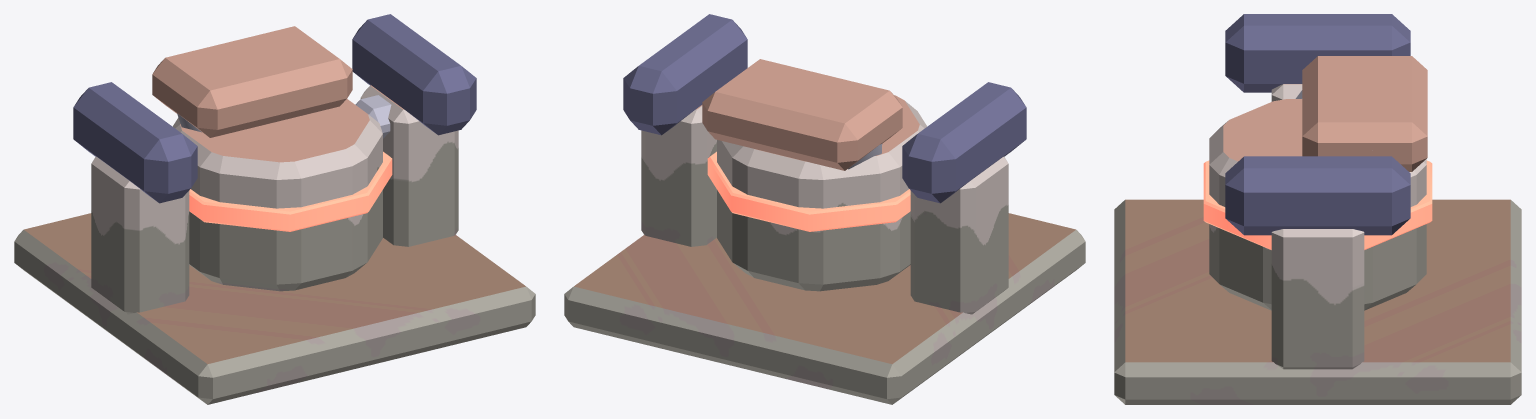
The model's file is R4X_OffensiveTurretDeployer_LOD1.glb.
The picture shows the model from 3 angles, left to right: view 1: azimuth 30°, elevation 25°; view 2: azimuth 150°, elevation 25°; view 3: azimuth 270°, elevation 25°; orthographic projection. The views are drawn at different scales.
Parts seen in each view (by area): view 1: R4X_OffensiveTurretDeployer_LOD1; view 2: R4X_OffensiveTurretDeployer_LOD1; view 3: R4X_OffensiveTurretDeployer_LOD1.
Part boxes in pixels (<box>): R4X_OffensiveTurretDeployer_LOD1: <box>14,14,535,404</box>; R4X_OffensiveTurretDeployer_LOD1: <box>564,14,1085,404</box>; R4X_OffensiveTurretDeployer_LOD1: <box>1114,14,1521,404</box>.
Size of the model in its own units: 0.52 by 0.33 by 0.52.
Materials: 5 (4 with a texture image).
